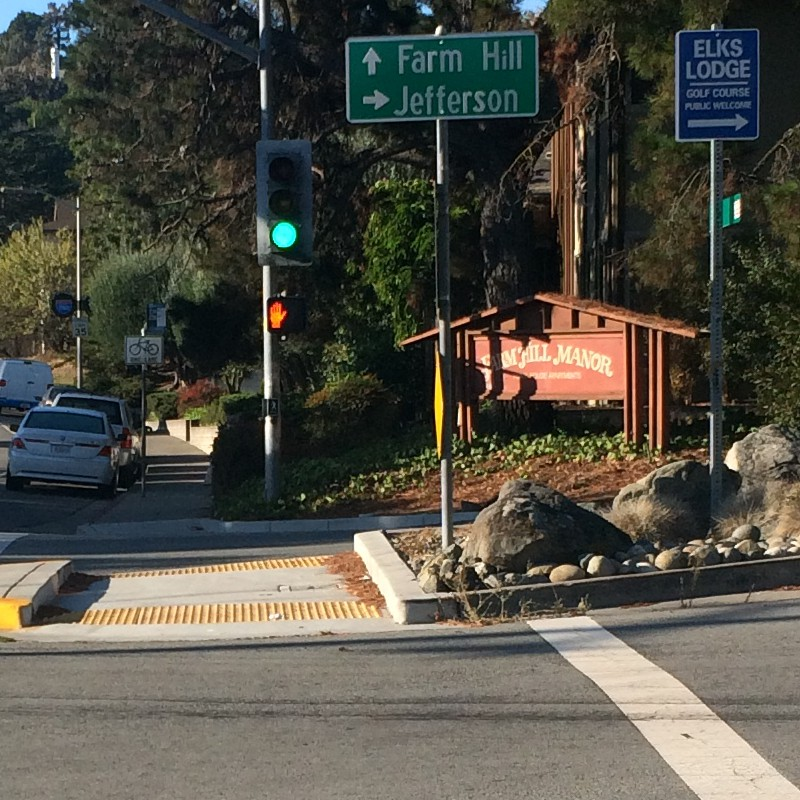stop: (262, 296, 303, 335)
